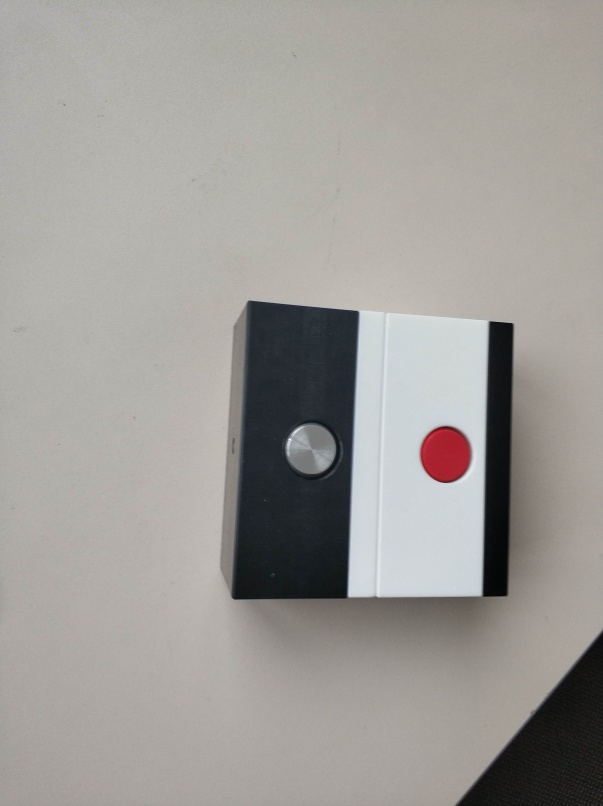black+white+red: (373, 310, 514, 600)
white+black+silver: (216, 298, 385, 602)
